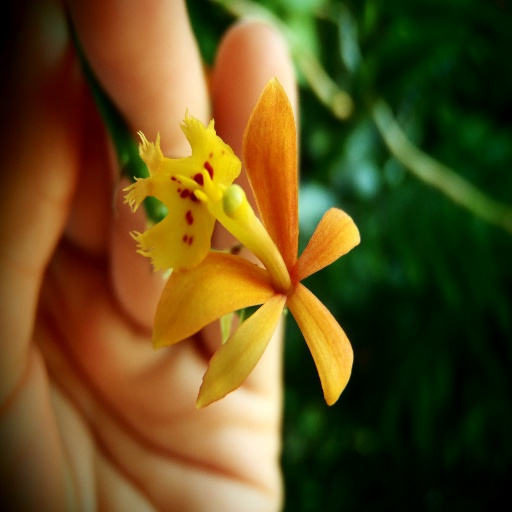hand: (0, 0, 297, 511)
